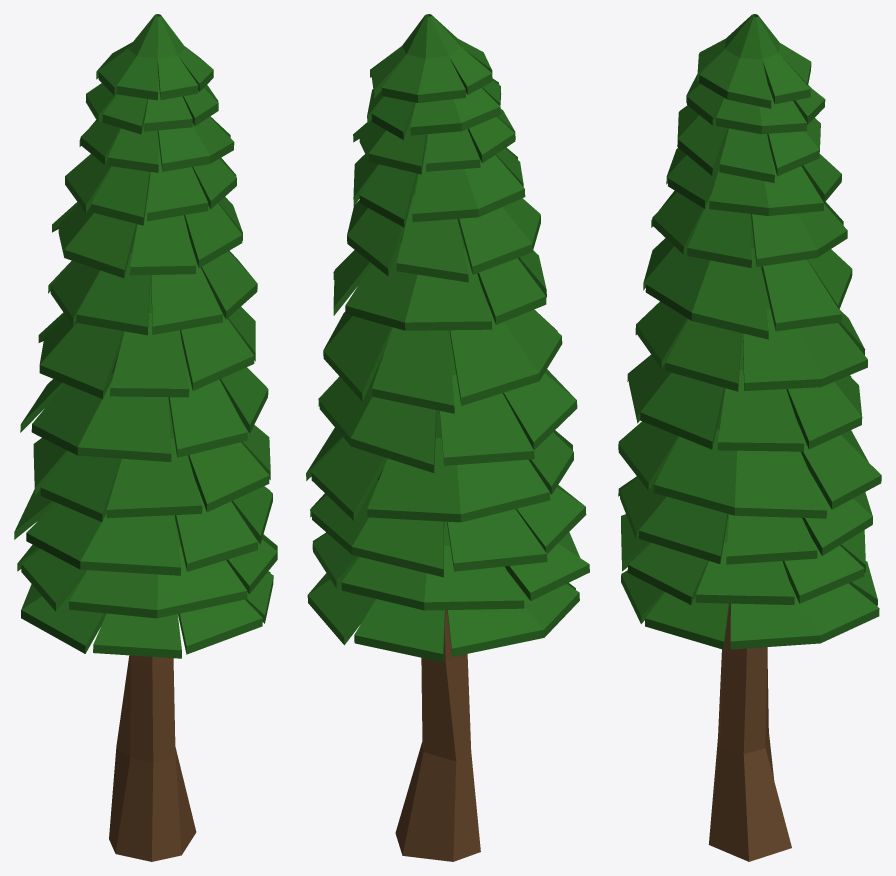
File: pine_tree_5.fbx
3 renders of one model, left to right at view 1: azimuth 30°, elevation 25°; view 2: azimuth 150°, elevation 25°; view 3: azimuth 270°, elevation 25°, orthographic.
Parts seen in each view (by area): view 1: Circle.012; view 2: Circle.012; view 3: Circle.012.
Part boxes in pixels (left/top/right/bottom): Circle.012: left=14, top=14, right=277, bottom=861; Circle.012: left=306, top=14, right=589, bottom=861; Circle.012: left=618, top=14, right=881, bottom=861.
Bounding box in the file's own units: 224 × 756 × 218.
Materials: 2 (1 with a texture image).
